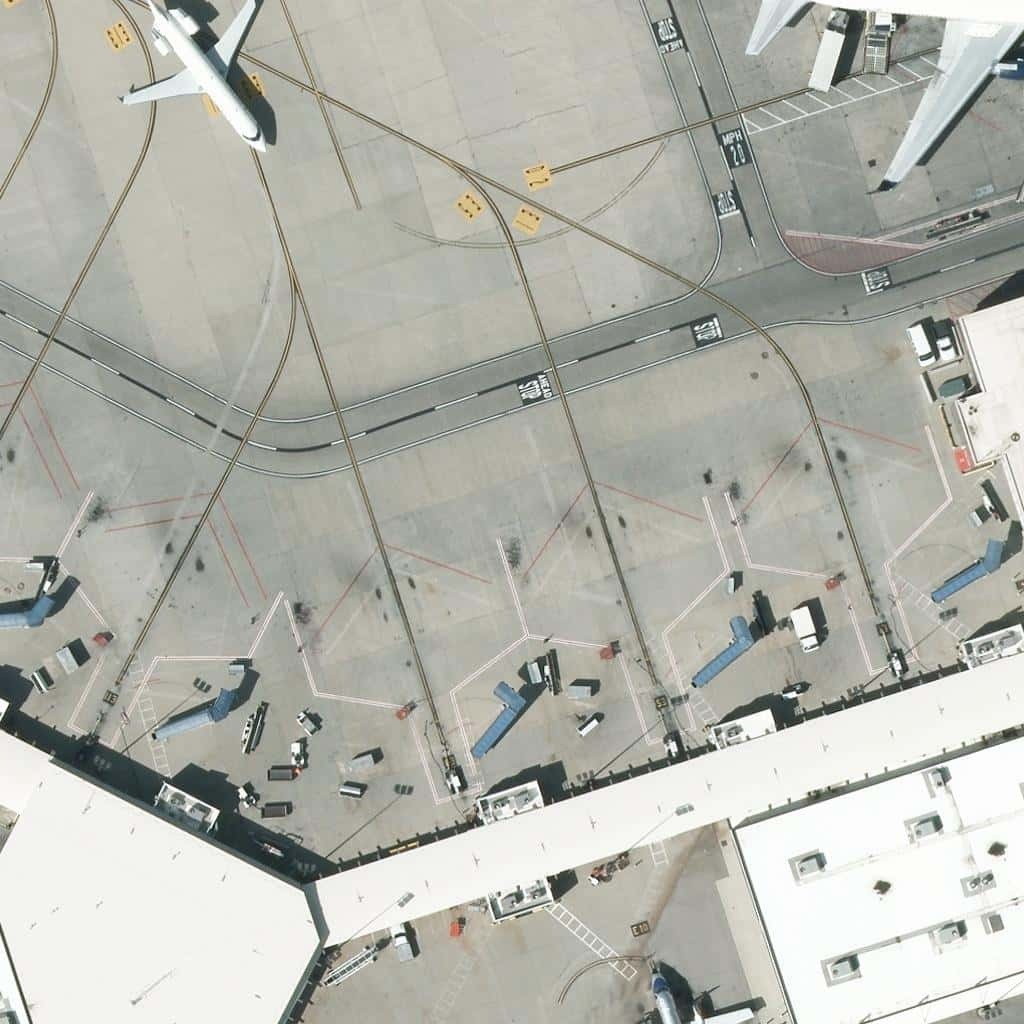plane: (745, 1, 1022, 194), (113, 1, 271, 156)
